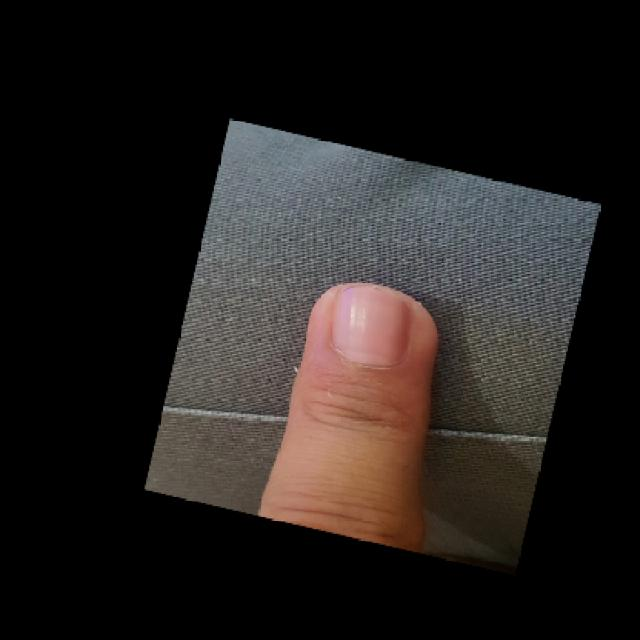Nail: (332, 285, 408, 366)
